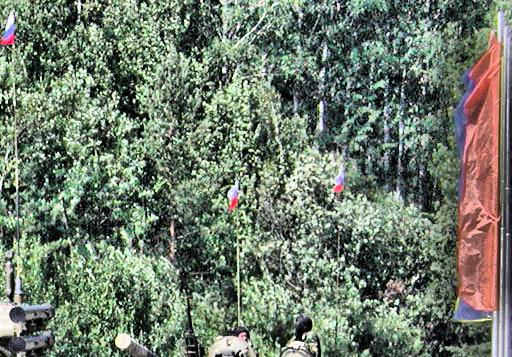tanks: (1, 303, 55, 357), (211, 331, 257, 357), (117, 335, 165, 357), (282, 333, 317, 357)
